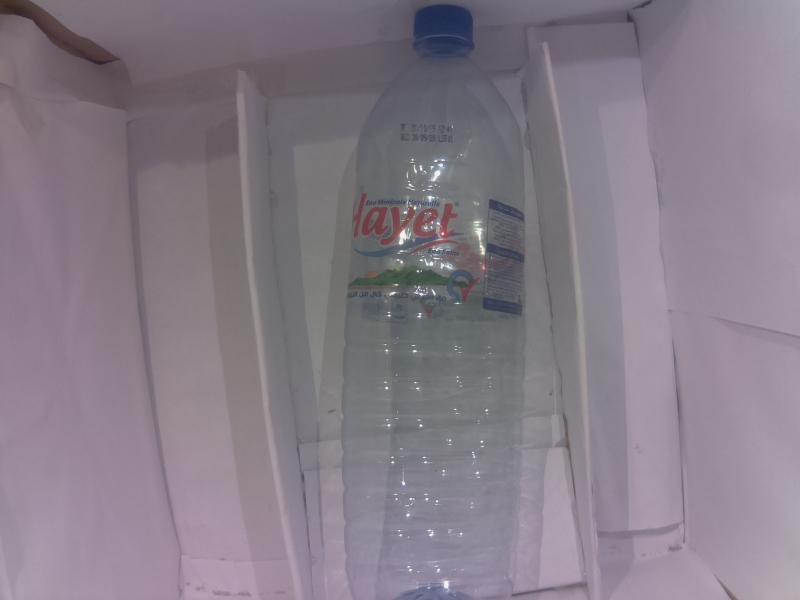BIODEGRADABLE: (314, 4, 563, 600)
